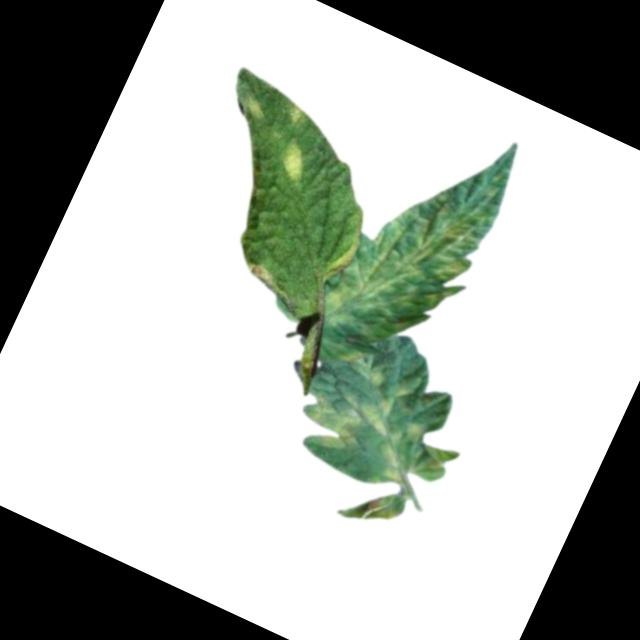Leaf_Mold: (310, 95, 533, 376), (293, 336, 443, 482), (240, 259, 298, 300), (275, 142, 317, 185), (238, 86, 273, 123)
